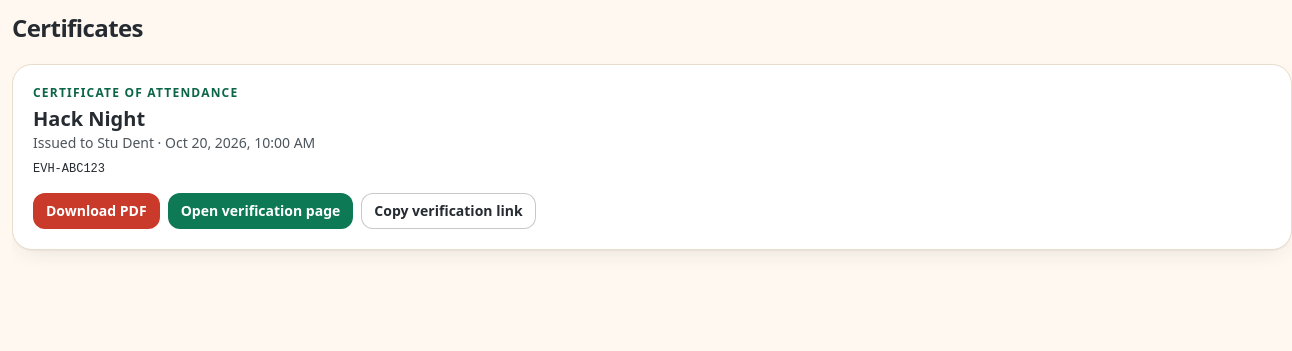
Test: Certificates → Download PDF › shows the backend message and does not claim success when the download fails
What coordinates should you click on to do the following:
click the button "Download PDF"
I would click on:
 (96, 211)
Its box is [33,193,160,229].
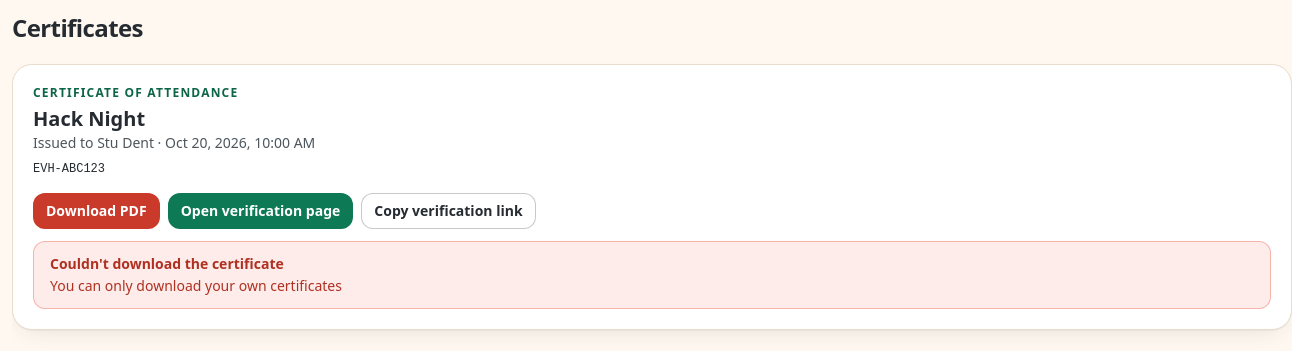
Expected: the message shows "You can only download your own certificates", [50,276,342,295]
